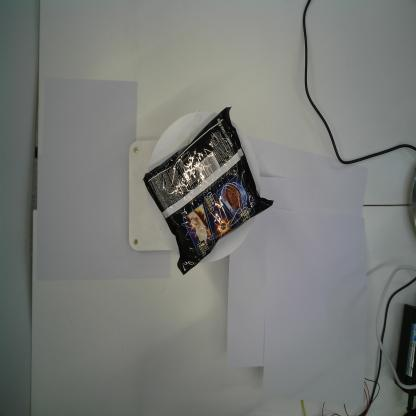Instant Noodles: (140, 103, 276, 278)
